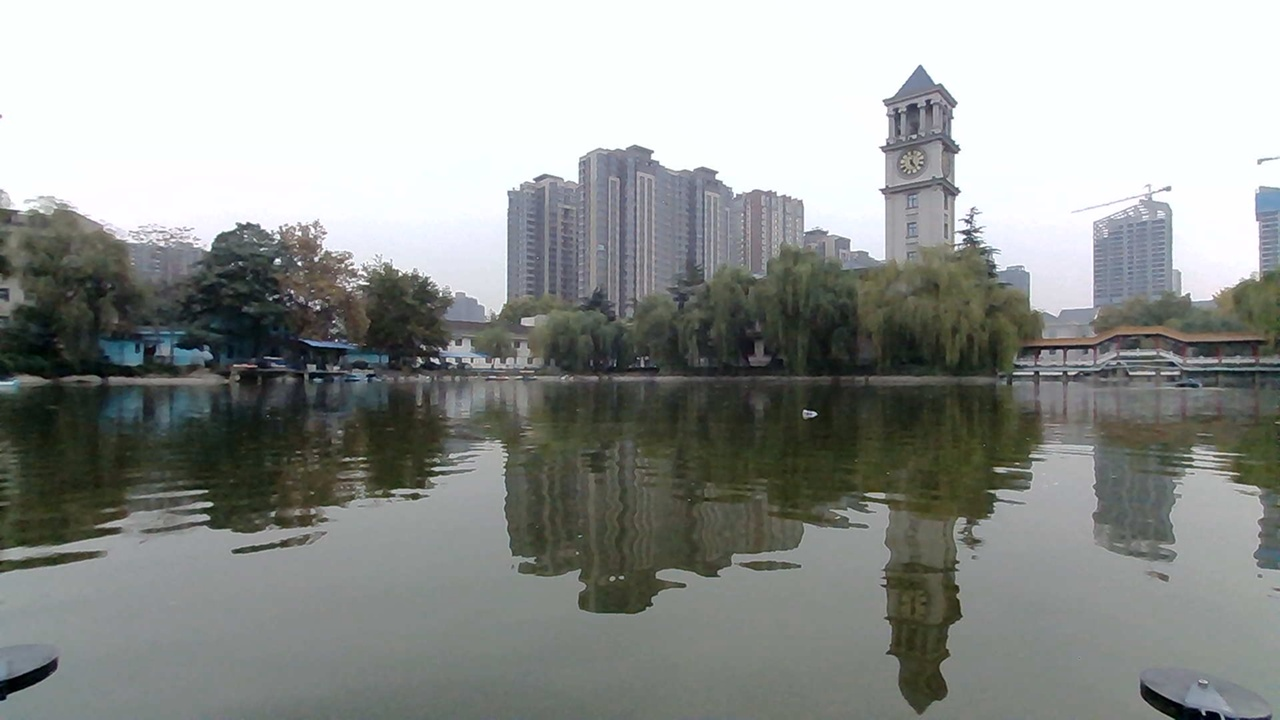bottle: (799, 394, 838, 424)
